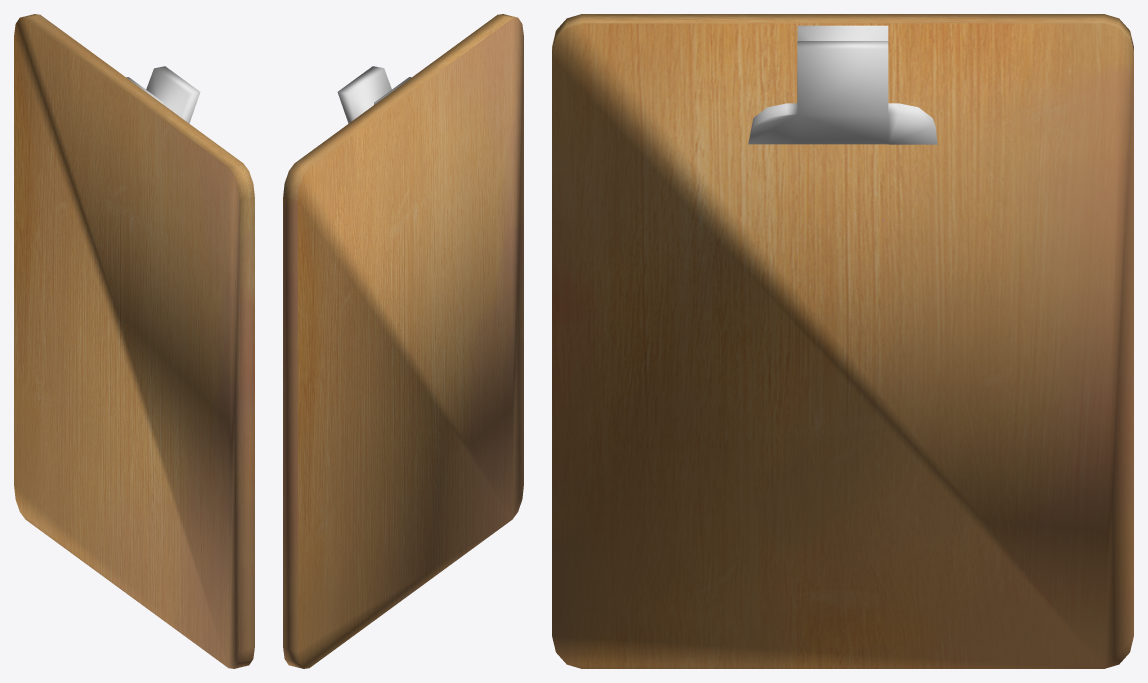
File: TablePaper.fbx
3 renders of one model, left to right at view 1: azimuth 30°, elevation 25°; view 2: azimuth 150°, elevation 25°; view 3: azimuth 270°, elevation 25°, orthographic. The views are drawn at different scales.
Parts seen in each view (by area): view 1: TablePaper; view 2: TablePaper; view 3: TablePaper.
Boxes of the visible parts, x1,y1,x2,y2 form: TablePaper: (14,14,254,668); TablePaper: (283,14,523,668); TablePaper: (552,14,1133,668).
Bounding box in the file's own units: 17.14 × 147 × 120.
